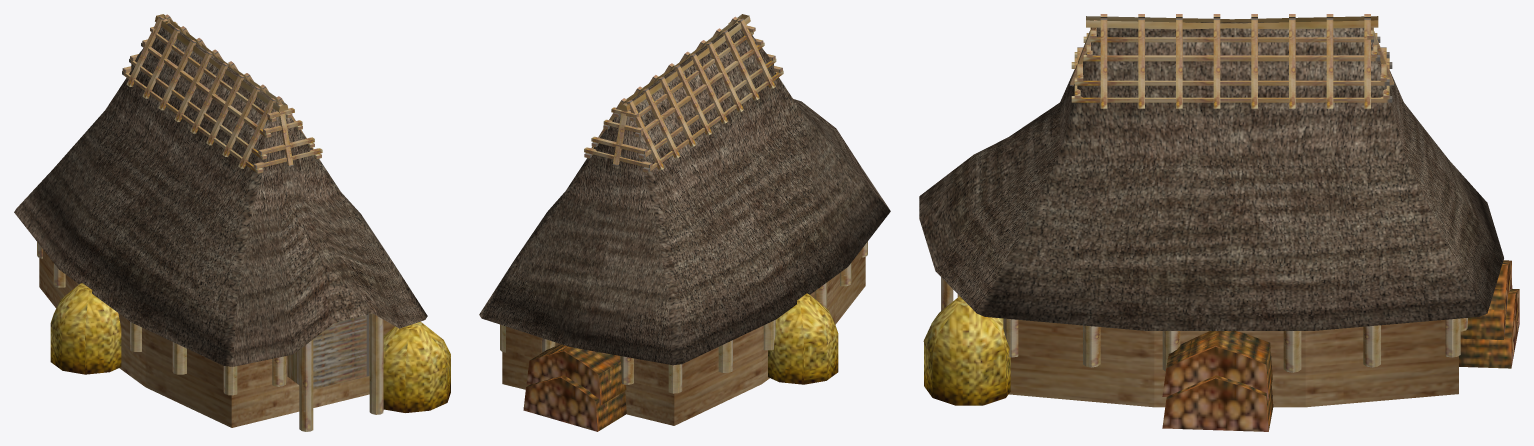
File: yayoi_house_2.dae
The picture shows the model from 3 angles, left to right: view 1: azimuth 30°, elevation 25°; view 2: azimuth 150°, elevation 25°; view 3: azimuth 270°, elevation 25°; orthographic projection. The views are drawn at different scales.
Visible parts, largest first — view 1: house_2; view 2: house_2; view 3: house_2.
Boxes of the visible parts, x1,y1,x2,y2 form: house_2: (14,14,450,431); house_2: (479,14,890,431); house_2: (919,14,1519,431).
Size of the model in its own units: 12.12 by 17.22 by 10.38.
1 material, 1 textured.
